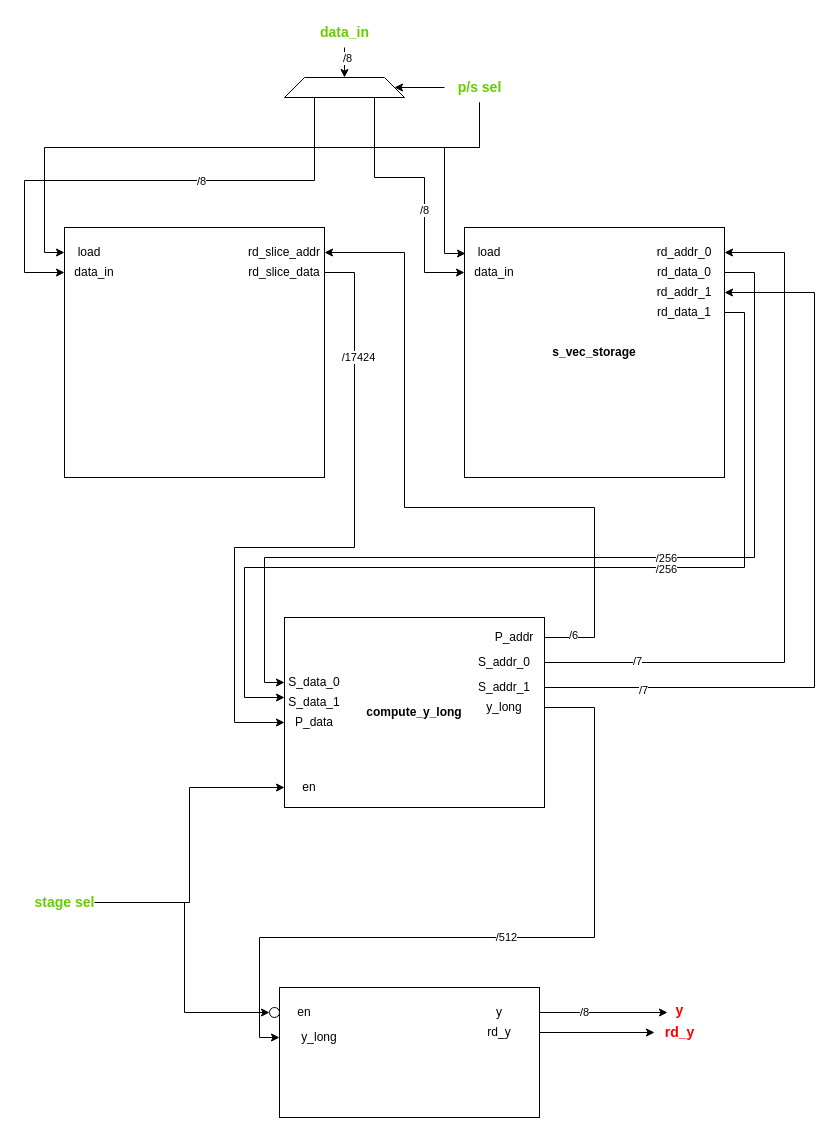
The diagram is 840 pixels wide and 1135 high, and some of its shapes have lost their labels. The box of each missing label's shape, as (x1, y1, x2, y2) in pixels:
collapse_y_long: (278, 986, 540, 1118)
p_mat_storage: (64, 226, 324, 478)
